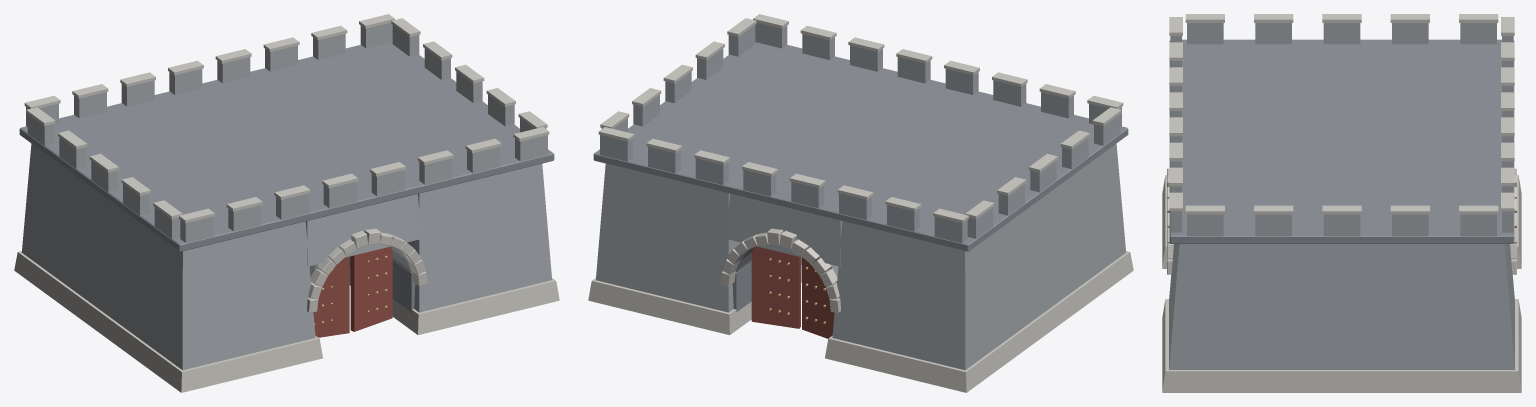
File: city-gate-arch.glb
3 views of the same model, side by side, from view 1: azimuth 30°, elevation 25°; view 2: azimuth 150°, elevation 25°; view 3: azimuth 270°, elevation 25° (orthographic). The views are drawn at different scales.
Visible parts, largest first — view 1: gate_brick, gate_dark, gate_stone, gate_door; view 2: gate_brick, gate_dark, gate_stone, gate_door; view 3: gate_dark, gate_brick, gate_stone.
Part boxes in pixels (<box>): gate_brick: <box>21,22,551,370</box>; gate_dark: <box>19,42,554,312</box>; gate_stone: <box>14,14,559,392</box>; gate_door: <box>313,246,392,337</box>; gate_brick: <box>596,22,1126,370</box>; gate_dark: <box>593,42,1128,312</box>; gate_stone: <box>588,14,1133,392</box>; gate_door: <box>751,246,834,338</box>; gate_dark: <box>1169,39,1514,243</box>; gate_brick: <box>1169,23,1514,369</box>; gate_stone: <box>1162,14,1521,392</box>.
Size of the model in its own units: 18.55 by 7.89 by 14.2.
